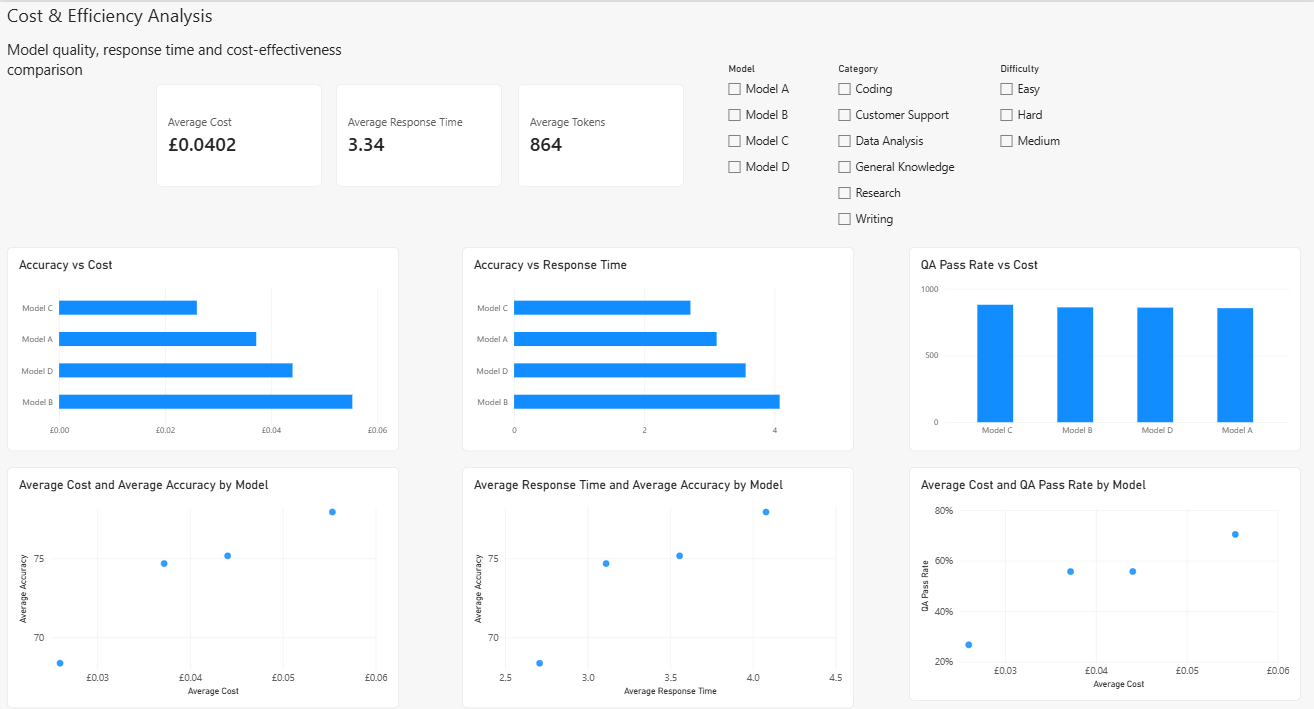

This screenshot's page, from the dashboard's own definition file:
{"tool":"powerbi","page":{"name":"Cost & Efficiency Analysis","canvas":[1920,1080],"ordinal":2},"visuals":[{"type":"textbox","box":[10.2,0,571.9,119.6],"z":0},{"type":"cardVisual","fields":{"Data":["AI Responses.Average Cost"]},"box":[227.6,119.6,242.2,150.3],"z":1},{"type":"cardVisual","fields":{"Data":["AI Responses.Average Response Time"]},"box":[490.2,119.6,242.2,150.3],"z":2},{"type":"cardVisual","fields":{"Data":["AI Responses.Average Tokens"]},"box":[755.7,119.6,242.2,150.3],"z":3},{"type":"barChart","title":"Accuracy vs Cost","fields":{"Category":["AI Responses.Model"],"Y":["AI Responses.Average Cost"]},"box":[10.2,357.4,571.9,297.6],"z":4},{"type":"barChart","title":"Accuracy vs Response Time","fields":{"Category":["AI Responses.Model"],"Y":["AI Responses.Average Response Time"]},"box":[674,357.4,571.9,297.6],"z":5},{"type":"columnChart","title":"QA Pass Rate vs Cost","fields":{"Category":["AI Responses.Model"],"Y":["AI Responses.Average Tokens"]},"box":[1326.2,357.4,571.9,297.6],"z":6},{"type":"scatterChart","title":"Accuracy vs Cost","fields":{"Category":["AI Responses.Model"],"X":["AI Responses.Average Cost"],"Y":["AI Responses.Average Accuracy"]},"box":[10.2,678.4,571.9,351.6],"z":7},{"type":"scatterChart","title":"Accuracy vs Response Time","fields":{"Category":["AI Responses.Model"],"X":["AI Responses.Average Response Time"],"Y":["AI Responses.Average Accuracy"]},"box":[674,678.4,571.9,351.6],"z":8},{"type":"scatterChart","title":"QA Pass Rate vs Cost","fields":{"Category":["AI Responses.Model"],"X":["AI Responses.Average Cost"],"Y":["AI Responses.QA Pass Rate"]},"box":[1326.2,678.4,571.9,341.4],"z":9},{"type":"slicer","fields":{"Values":["AI Responses.Model"]},"box":[1054.8,89,160.5,180.9],"z":10},{"type":"slicer","fields":{"Values":["AI Responses.Category"]},"box":[1215.3,89,310.8,250.9],"z":11},{"type":"slicer","fields":{"Values":["AI Responses.Difficulty"]},"box":[1451.7,89,299.1,141.5],"z":12}]}

Visuals, with their boxes on the page's 1920x1080 design canvas (x1, y1, x2, y2). These are canvas units, not pixel positions in the 1314x709 screenshot, which may show the page scaled, cropped or inside an application window:
textbox: region(10, 0, 582, 120)
cardVisual - AI Responses.Average Cost: region(228, 120, 470, 270)
cardVisual - AI Responses.Average Response Time: region(490, 120, 732, 270)
cardVisual - AI Responses.Average Tokens: region(756, 120, 998, 270)
"Accuracy vs Cost" barChart: region(10, 357, 582, 655)
"Accuracy vs Response Time" barChart: region(674, 357, 1246, 655)
"QA Pass Rate vs Cost" columnChart: region(1326, 357, 1898, 655)
"Accuracy vs Cost" scatterChart: region(10, 678, 582, 1030)
"Accuracy vs Response Time" scatterChart: region(674, 678, 1246, 1030)
"QA Pass Rate vs Cost" scatterChart: region(1326, 678, 1898, 1020)
slicer - AI Responses.Model: region(1055, 89, 1215, 270)
slicer - AI Responses.Category: region(1215, 89, 1526, 340)
slicer - AI Responses.Difficulty: region(1452, 89, 1751, 230)
